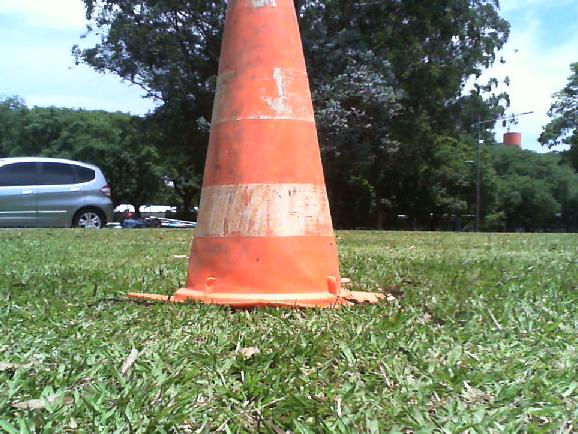0 cone: (129, 0, 395, 308)
